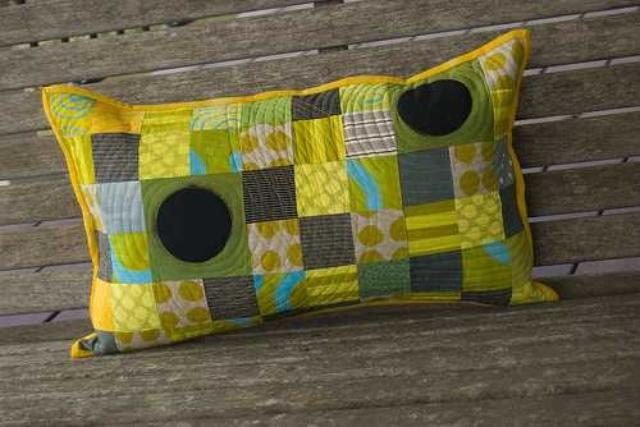pillow: (40, 25, 560, 360)
